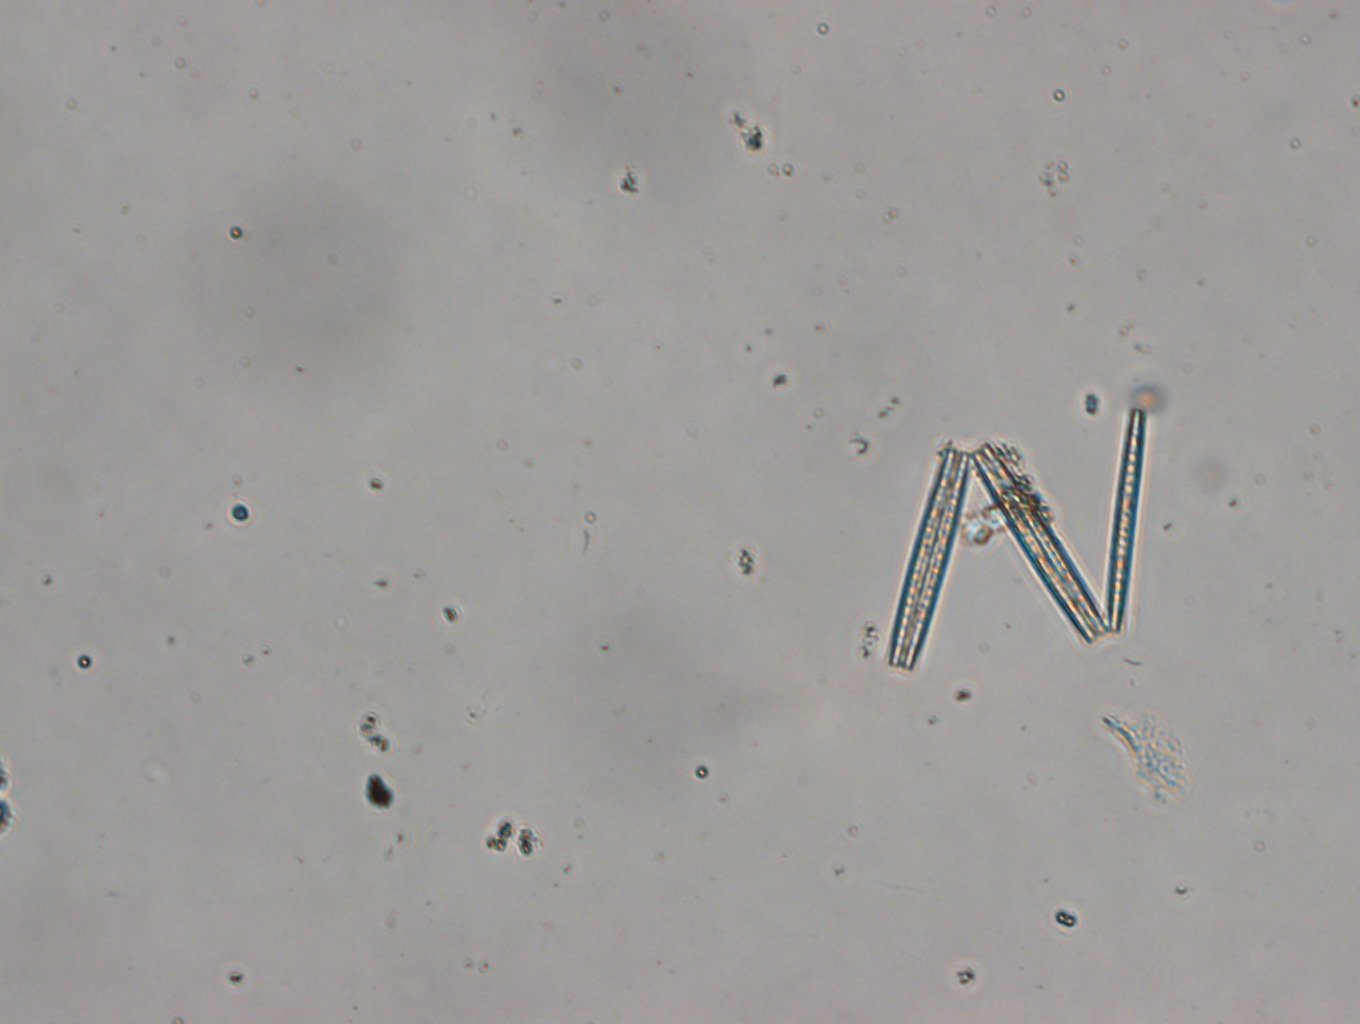thalassionema nitzschioides: (882, 406, 1150, 670)
